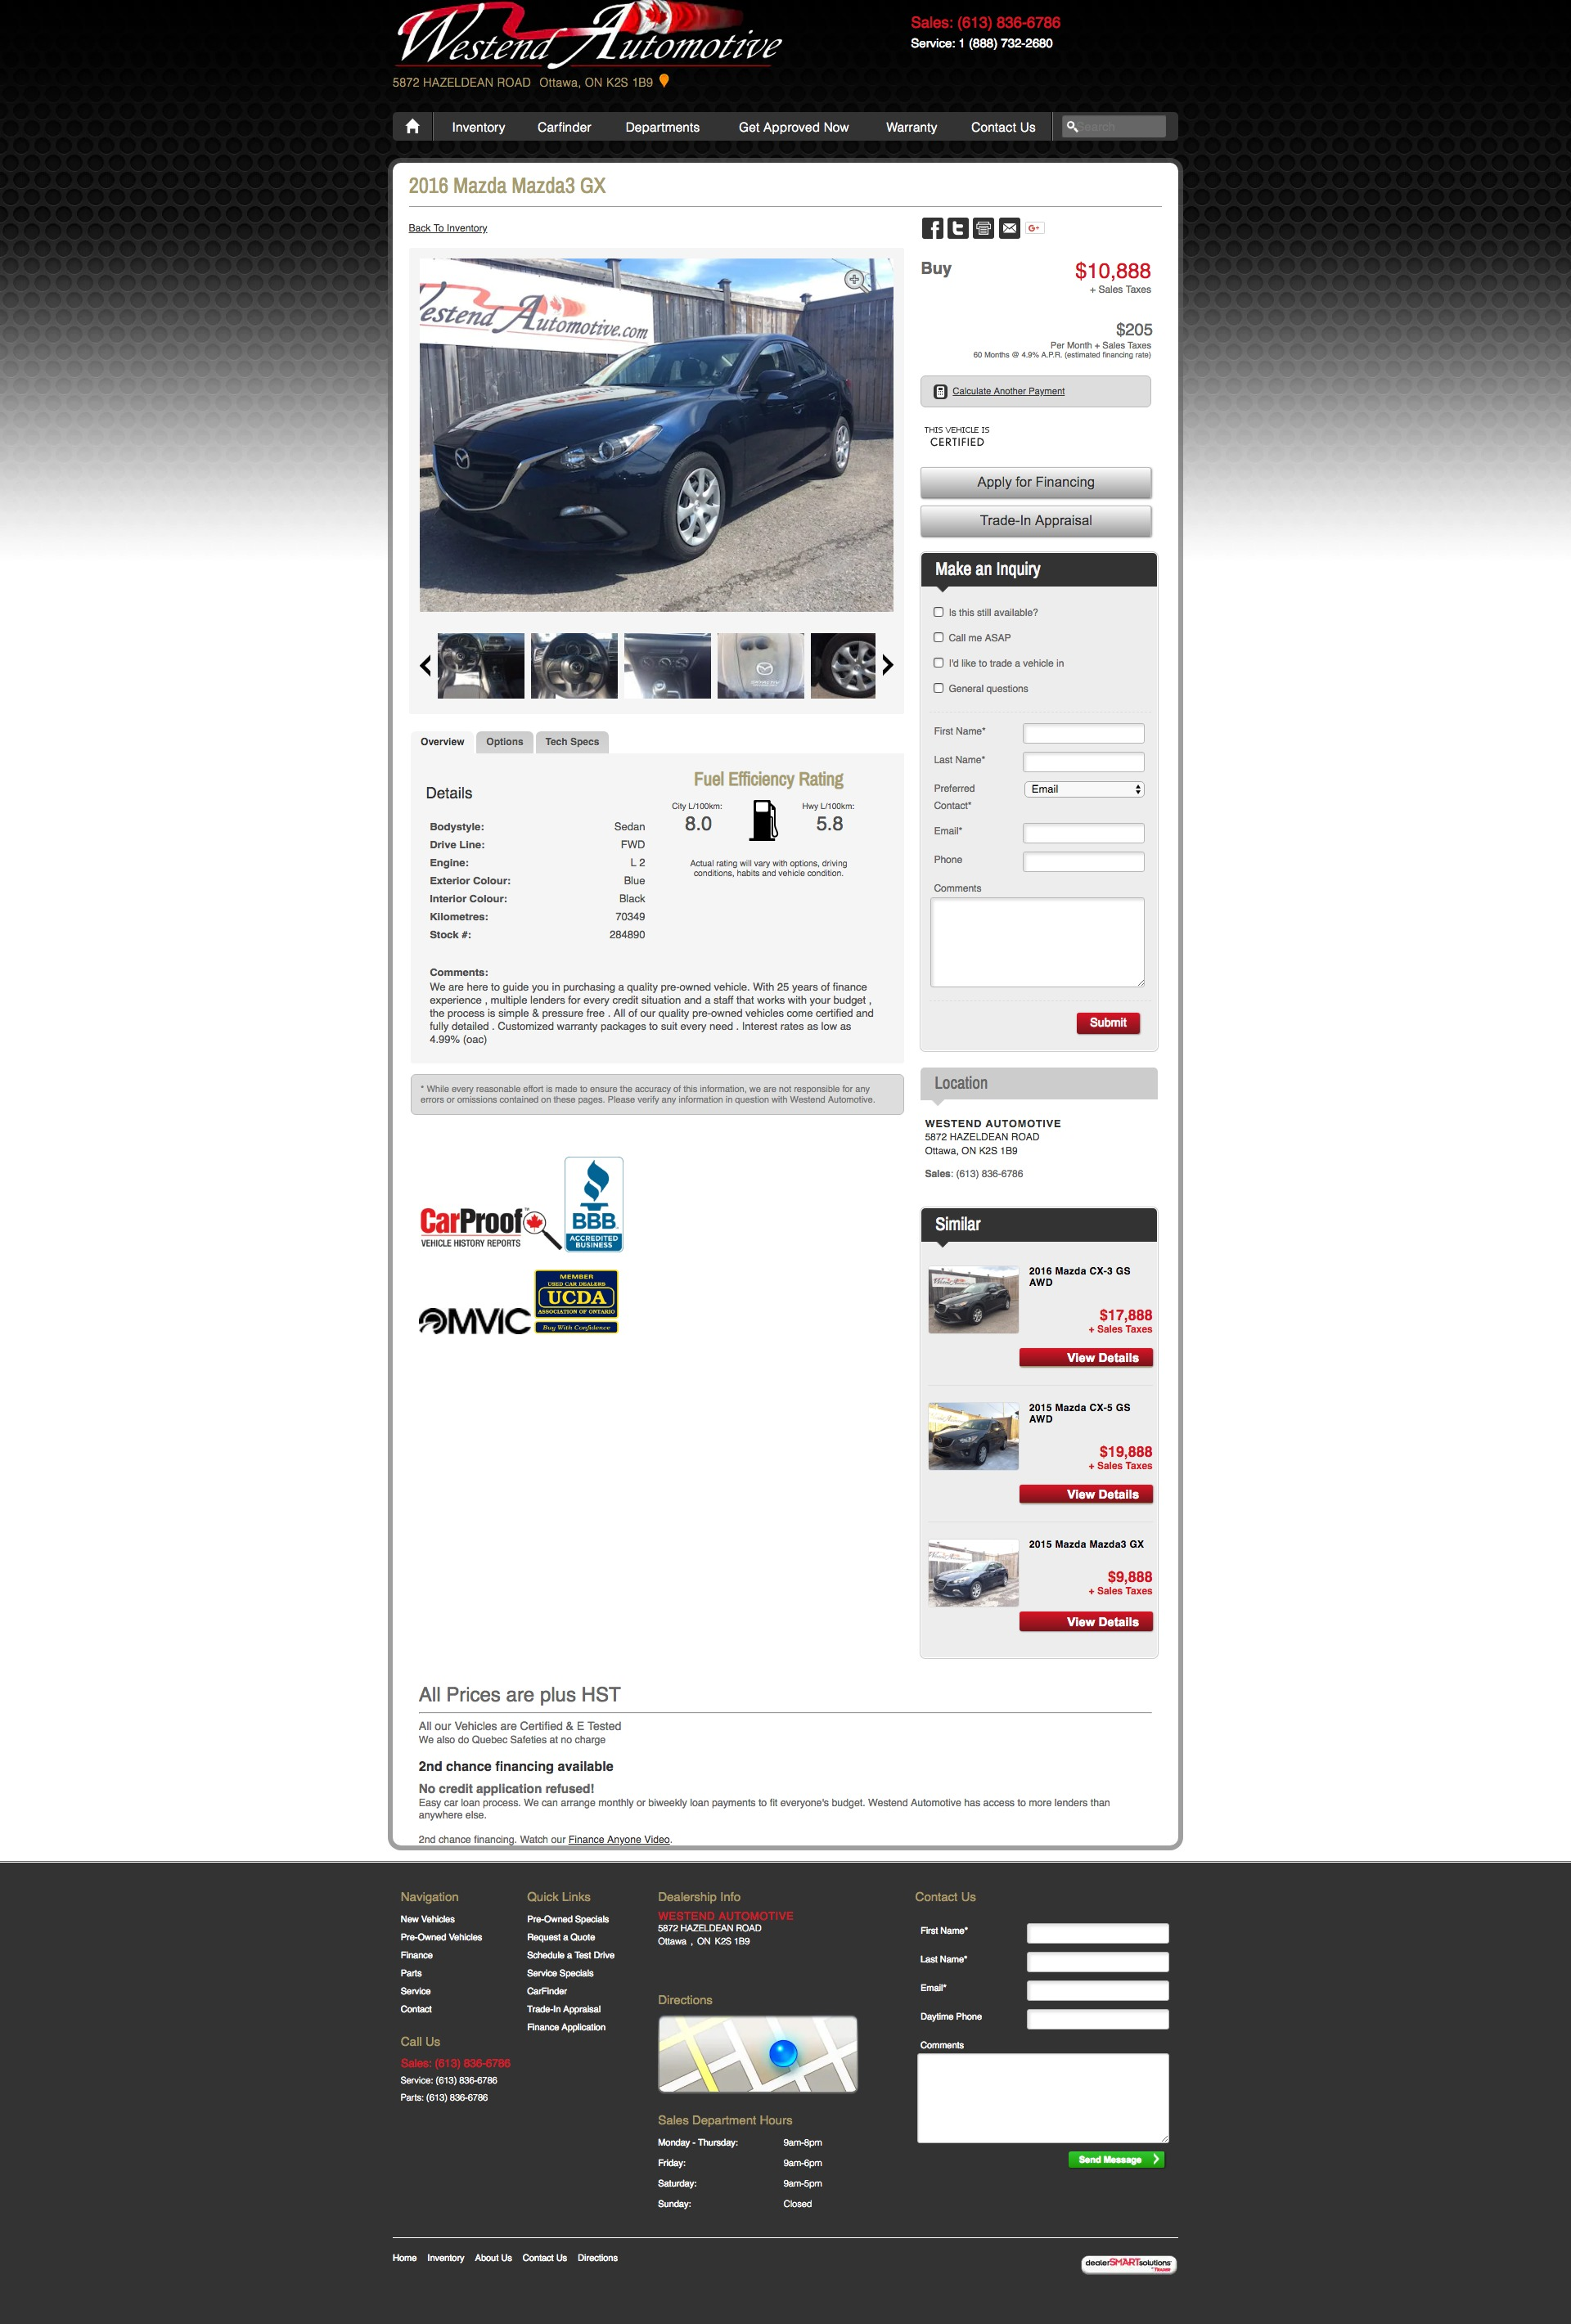car: (884, 654, 894, 677)
